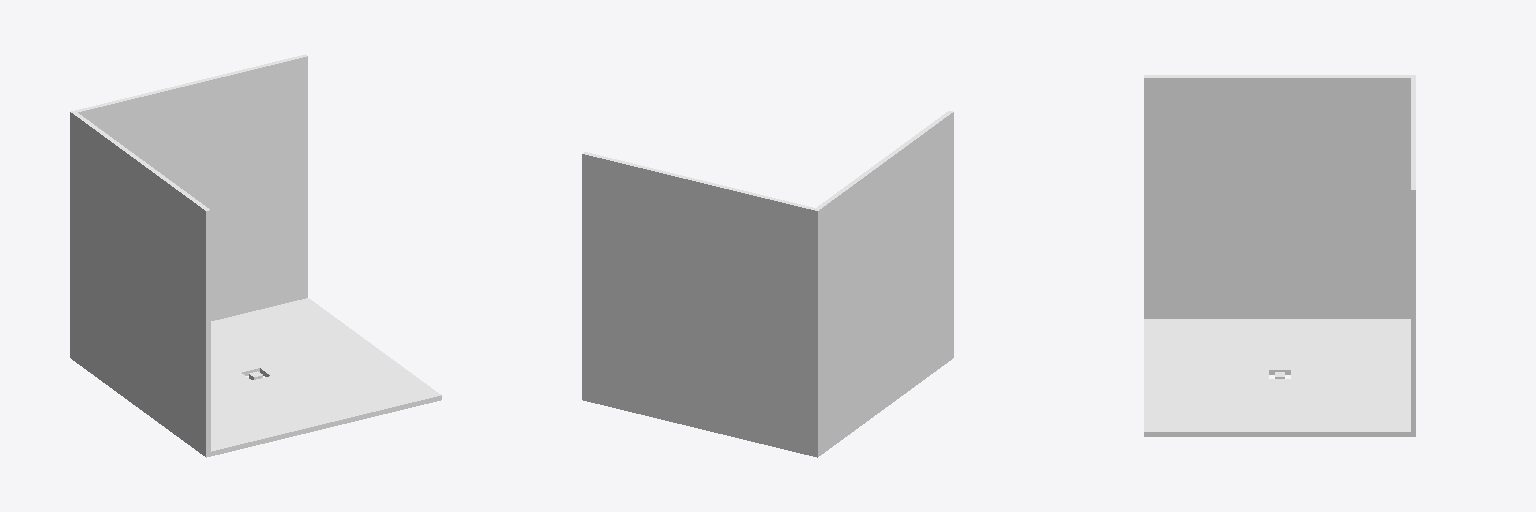
Rendered from Corner_Shower.obj.
The picture shows the model from 3 angles: view 1: azimuth 30°, elevation 25°; view 2: azimuth 150°, elevation 25°; view 3: azimuth 270°, elevation 25°; orthographic projection.
Parts seen in each view (by area): view 1: object 1; view 2: object 1; view 3: object 1.
Boxes of the visible parts, box(x1,y1,x2,y2) form: object 1: box(70, 54, 441, 457); object 1: box(582, 111, 953, 457); object 1: box(1144, 75, 1415, 436).
Bounding box in the file's own units: 5 × 5 × 5.